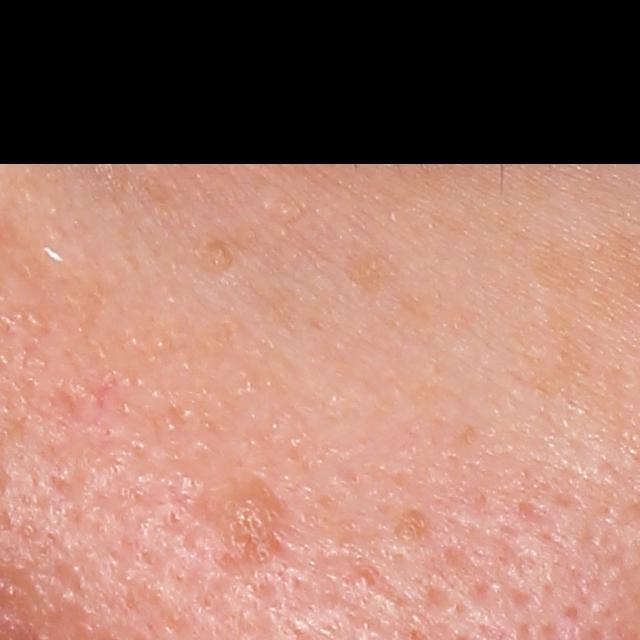melasma: (339, 247, 410, 306)
other: (217, 475, 291, 579)
